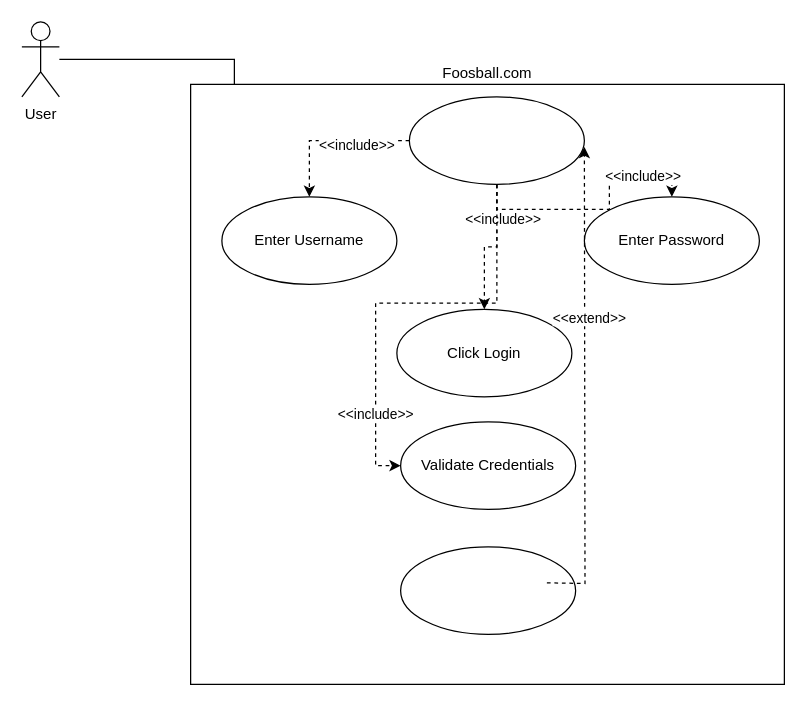
This 806x706 diagram has some shape labels left out. Here are the shapes that lost their labels. From the top down, the centre of each, then its label:
the point at 496,140: Log In
the point at 487,590: Show Error Massage
